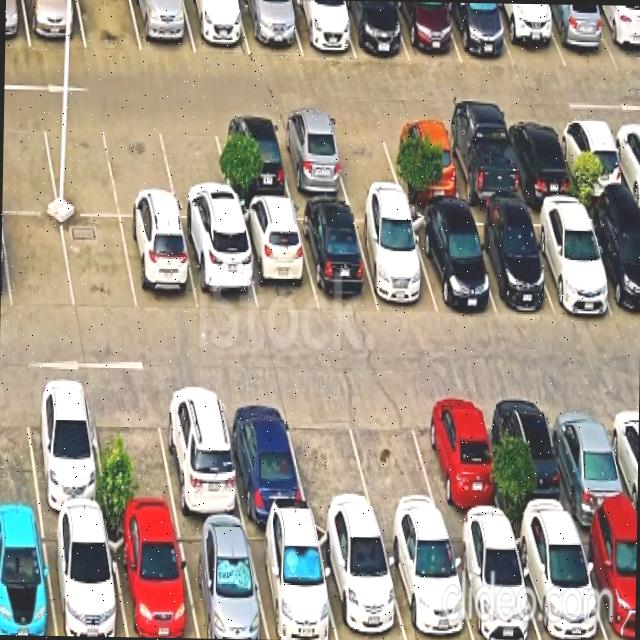empty: (345, 393, 444, 524), (283, 394, 376, 523), (89, 386, 177, 520), (157, 116, 235, 218), (42, 114, 119, 215), (61, 215, 137, 313), (104, 116, 178, 216), (2, 213, 74, 309), (326, 118, 403, 198), (2, 113, 58, 212), (0, 384, 39, 515), (77, 0, 141, 51)
occupied: (414, 392, 506, 525), (156, 386, 244, 521), (545, 393, 635, 523), (220, 390, 308, 519), (23, 383, 107, 517), (490, 392, 575, 524), (511, 524, 606, 640), (175, 522, 268, 639), (446, 525, 540, 640), (314, 524, 406, 640), (245, 524, 337, 640), (380, 526, 473, 640), (107, 521, 197, 638), (42, 518, 126, 637), (525, 205, 614, 313), (464, 210, 553, 313), (408, 210, 496, 314), (351, 207, 437, 313), (237, 205, 317, 313), (295, 206, 378, 310), (575, 521, 637, 640), (120, 217, 198, 311), (180, 220, 257, 312), (440, 119, 521, 203), (582, 204, 640, 320), (214, 118, 291, 201), (0, 519, 55, 635), (384, 119, 462, 200), (273, 118, 349, 199), (502, 118, 576, 198), (555, 117, 628, 198), (492, 3, 565, 68), (542, 4, 616, 67), (445, 2, 513, 65), (394, 1, 461, 62), (340, 0, 408, 60), (287, 0, 355, 58), (183, 0, 249, 54), (238, 0, 301, 54), (131, 0, 195, 53), (22, 0, 85, 47), (593, 5, 640, 68), (5, 0, 30, 46)
